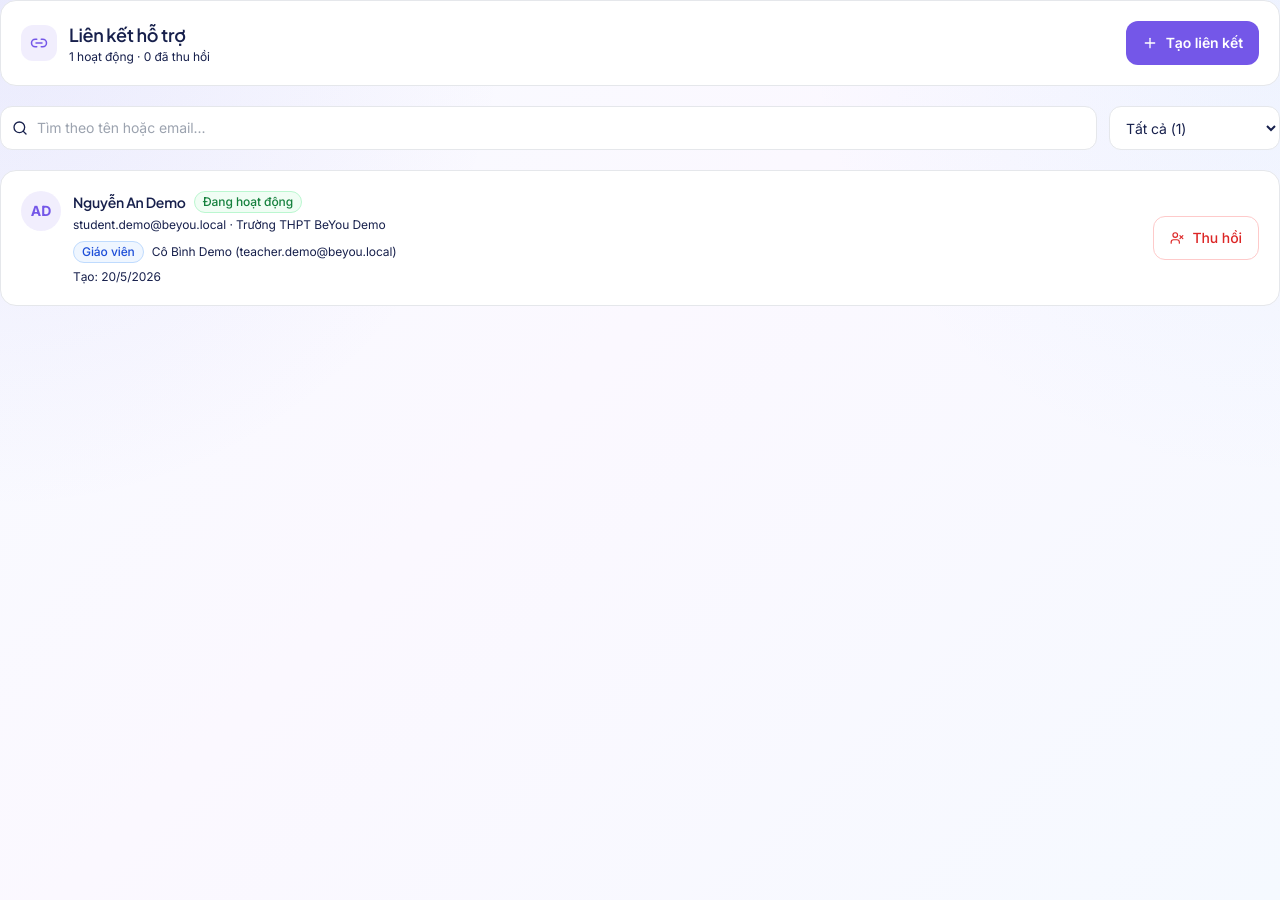
Test: admin management UI › renders link management copy and revoke confirmation
Check: the heading "Liên kết hỗ trợ" is shown, box [69, 23, 186, 46]
Click the button "Thu hồi" at (1206, 238), box [1153, 216, 1259, 260]
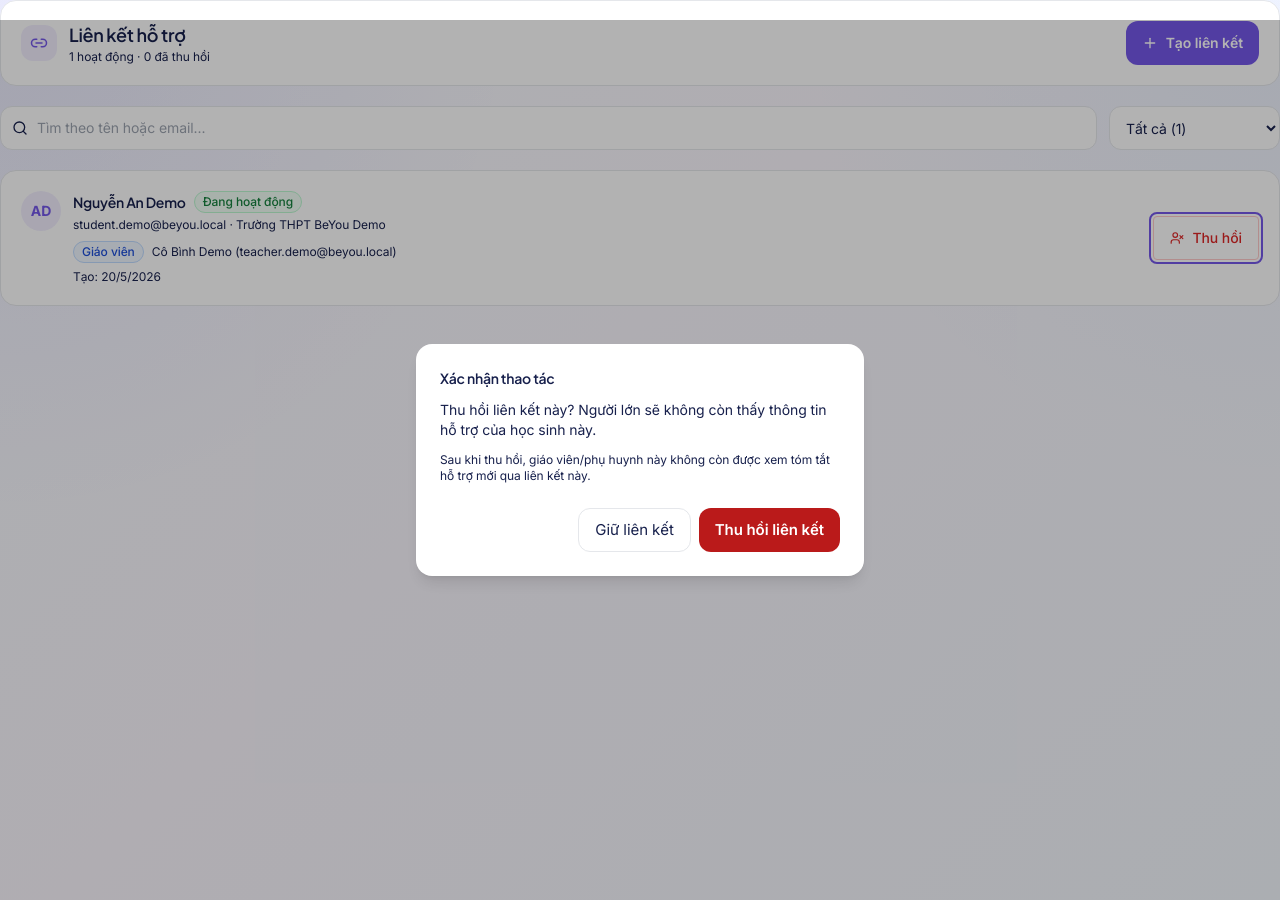
Check: the text "Thu hồi liên kết này? Người lớn sẽ không còn thấy thông tin hỗ trợ của học sinh này." is shown, box [440, 401, 826, 438]
Check: the button "Giữ liên kết" is shown, box [578, 508, 691, 552]
